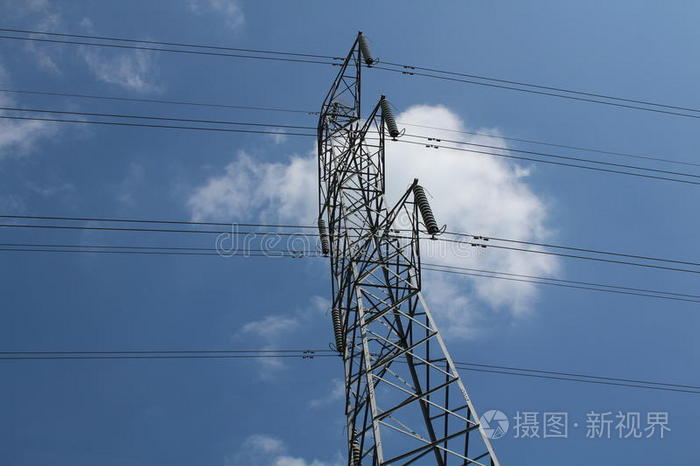insulator: (411, 183, 438, 238), (329, 305, 344, 351), (382, 99, 397, 137), (357, 34, 373, 65), (316, 219, 329, 253), (352, 432, 364, 465)
